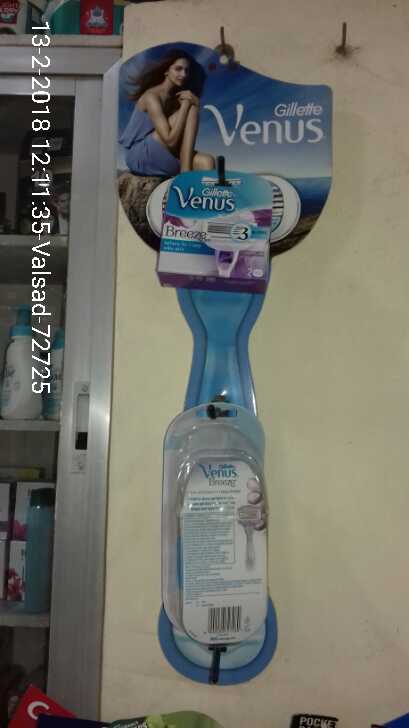venus: (158, 167, 283, 293)
